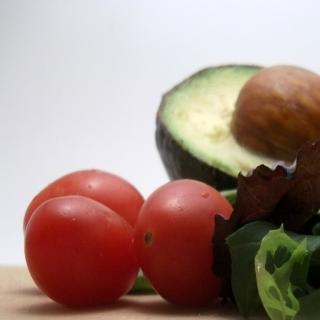tomato: (23, 167, 147, 291), (128, 179, 236, 308), (23, 195, 140, 308)
